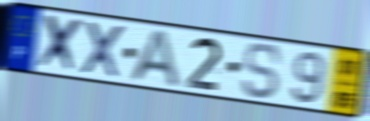2: (187, 36, 223, 93)
9: (288, 49, 328, 107)
A: (126, 27, 183, 91)
S: (241, 41, 284, 101)
X: (34, 12, 87, 77), (78, 18, 127, 81)
